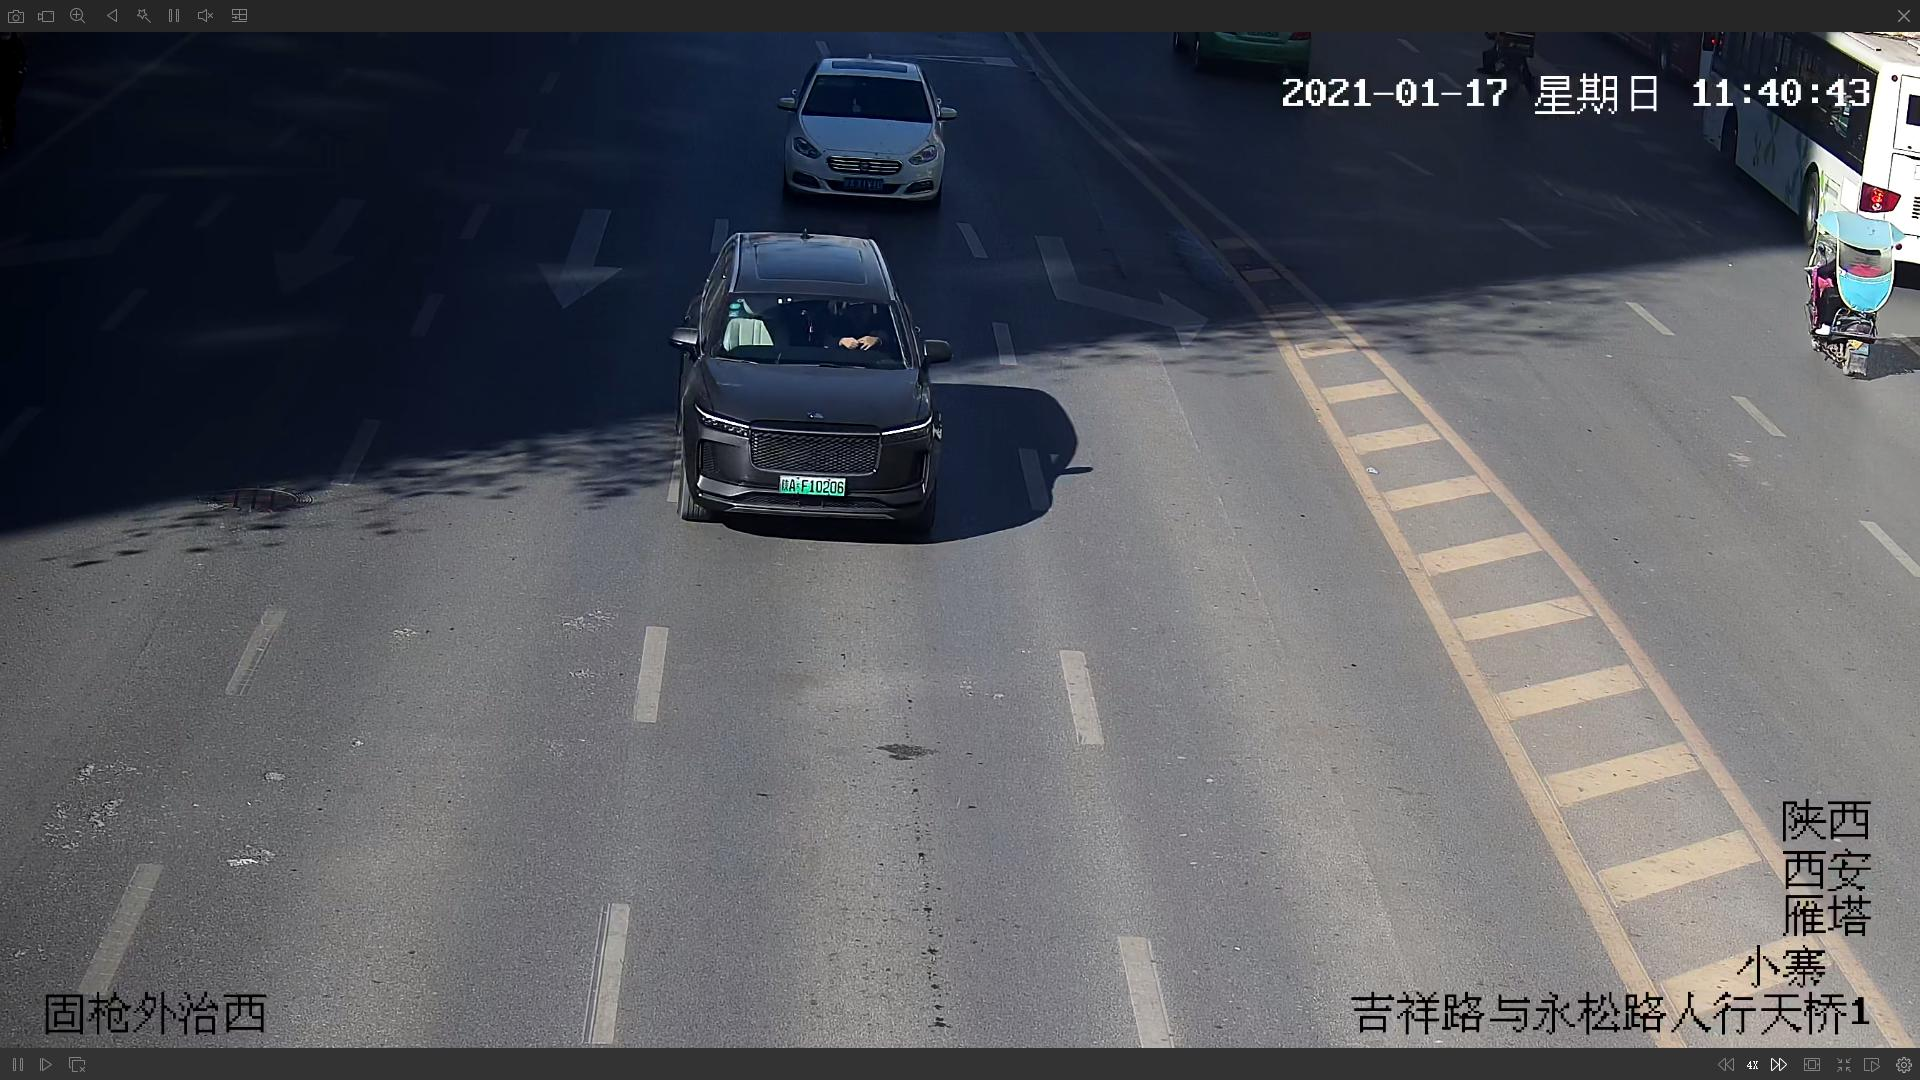black: (669, 232, 947, 538)
white: (779, 51, 948, 203)
